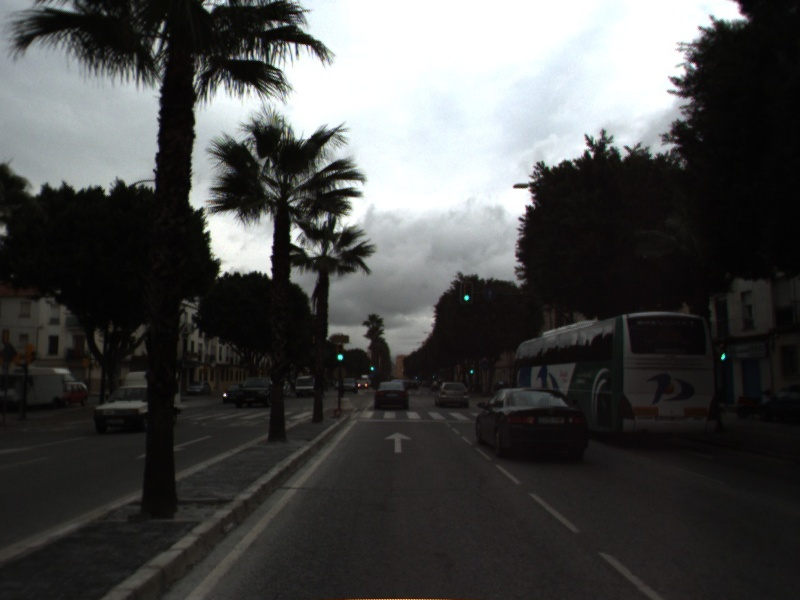STRAIGHT: (382, 429, 414, 455)
